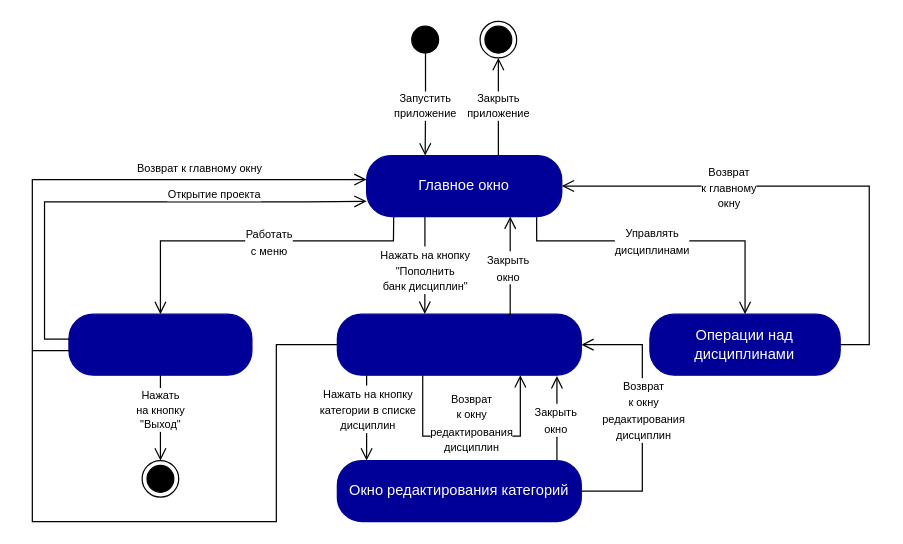
Image size: 903x544. Some labels were removed from this diagram. The box of each missing label's shape, as (x1, y1, x2, y2) in pixels:
Меню: (68, 313, 252, 375)
Окно редактирования дисциплин: (336, 313, 581, 375)
